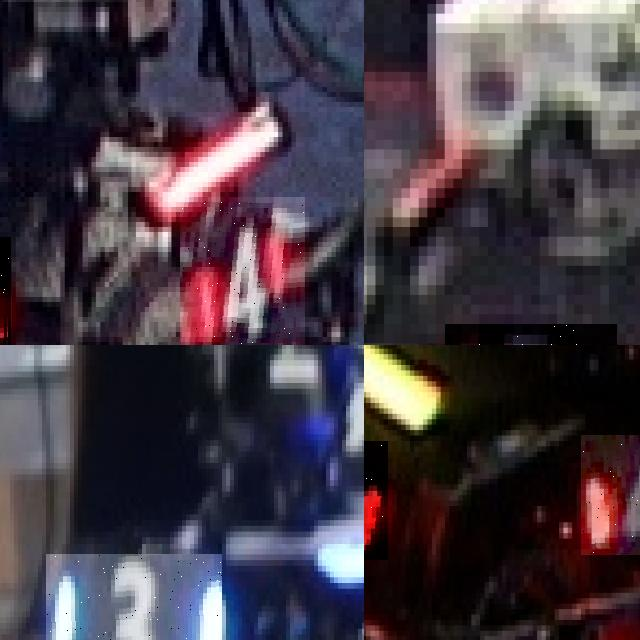B3: (46, 554, 222, 640)
R4: (180, 197, 304, 345), (581, 435, 640, 554), (364, 440, 388, 560)
